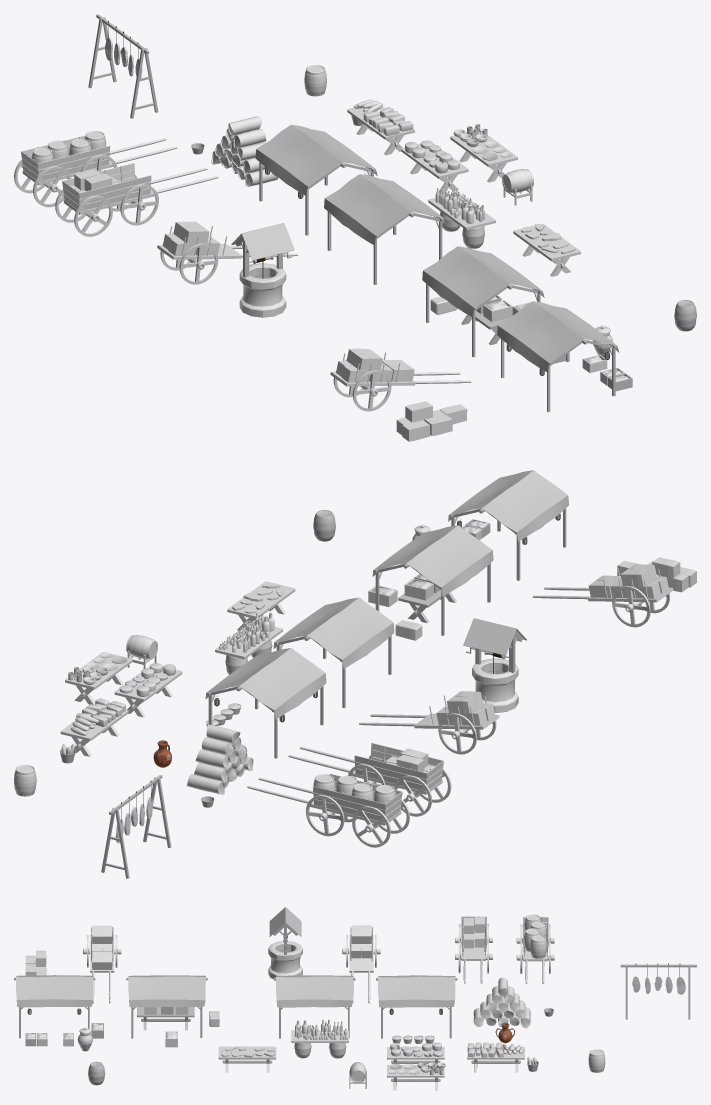
Rendered from Medieval_Market_Asset_Pack.fbx.
3 views of the same model, one above another, from view 1: azimuth 30°, elevation 25°; view 2: azimuth 150°, elevation 25°; view 3: azimuth 270°, elevation 25° (orthographic). The views are drawn at different scales.
Visible parts, largest first — view 1: Canopy_Black_White, Canopy_Blue_White, Hay_Wagon_1, Canopy_Red_White, Canopy_Yellow_White, Barrel_Wagon_1, Well, Hay_Cart_2, Hay_Cart_1, Log_Pile_1, Table_Of_Bottles, Meat_Hanging_Frame_1 (+7 smaller); view 2: Barrel_Wagon_1, Canopy_Red_White, Canopy_Black_White, Canopy_Yellow_White, Canopy_Blue_White, Hay_Wagon_1, Well, Hay_Cart_2, Hay_Cart_1, Log_Pile_1, Meat_Hanging_Frame_1, Table_Of_Bottles (+9 smaller); view 3: Canopy_Red_White, Canopy_Yellow_White, Canopy_Black_White, Canopy_Blue_White, Well, Log_Pile_1, Barrel_Wagon_1, Hay_Wagon_1, Table_Of_Bottles, Hay_Cart_2, Hay_Cart_1, Table_Of_Bread (+9 smaller).
Part boxes in pixels (box(x1,y1,x2,y2)): Canopy_Black_White: box(497, 301, 619, 412); Canopy_Blue_White: box(324, 174, 446, 284); Hay_Wagon_1: box(55, 163, 218, 236); Canopy_Red_White: box(255, 124, 377, 235); Canopy_Yellow_White: box(422, 246, 544, 357); Barrel_Wagon_1: box(14, 131, 177, 207); Well: box(231, 223, 294, 317); Hay_Cart_2: box(330, 348, 471, 411); Hay_Cart_1: box(157, 221, 298, 284); Log_Pile_1: box(211, 116, 277, 186); Table_Of_Bottles: box(428, 187, 495, 248); Meat_Hanging_Frame_1: box(88, 14, 158, 118); Barrel_Wagon_1: box(247, 773, 409, 847); Canopy_Red_White: box(205, 648, 326, 758); Canopy_Black_White: box(448, 470, 568, 580); Canopy_Yellow_White: box(372, 525, 493, 635); Canopy_Blue_White: box(273, 597, 394, 708); Hay_Wagon_1: box(288, 743, 451, 816); Well: box(463, 618, 526, 712); Hay_Cart_2: box(532, 564, 673, 627); Hay_Cart_1: box(359, 691, 499, 754); Log_Pile_1: box(186, 724, 253, 794); Meat_Hanging_Frame_1: box(101, 775, 171, 878); Table_Of_Bottles: box(215, 612, 282, 674); Canopy_Red_White: box(376, 975, 457, 1038); Canopy_Yellow_White: box(126, 975, 207, 1038); Canopy_Black_White: box(14, 975, 95, 1038); Canopy_Blue_White: box(274, 975, 355, 1038); Well: box(268, 907, 302, 979); Log_Pile_1: box(473, 977, 530, 1028); Barrel_Wagon_1: box(516, 914, 554, 984); Hay_Wagon_1: box(455, 916, 492, 983); Table_Of_Bottles: box(291, 1019, 348, 1058); Hay_Cart_2: box(83, 925, 121, 1003); Hay_Cart_1: box(342, 925, 380, 1003); Table_Of_Bread: box(467, 1042, 524, 1072).
Bounding box in the file's own units: 1938 × 377 × 3876.
